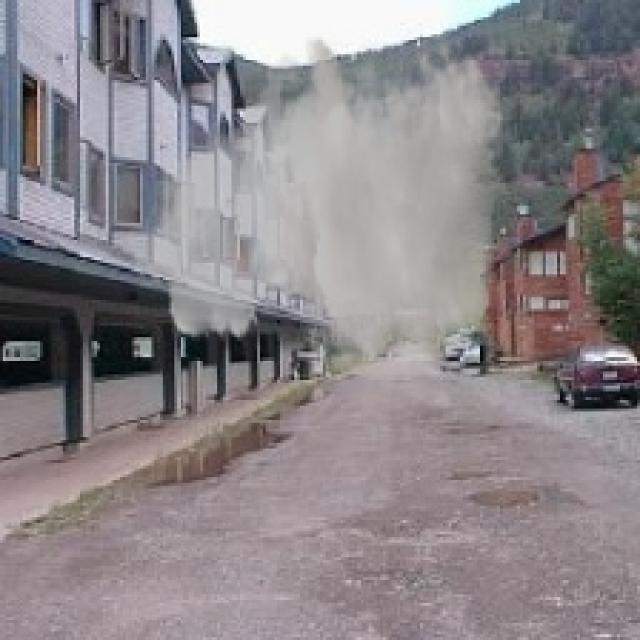smoke: (120, 34, 506, 423)
